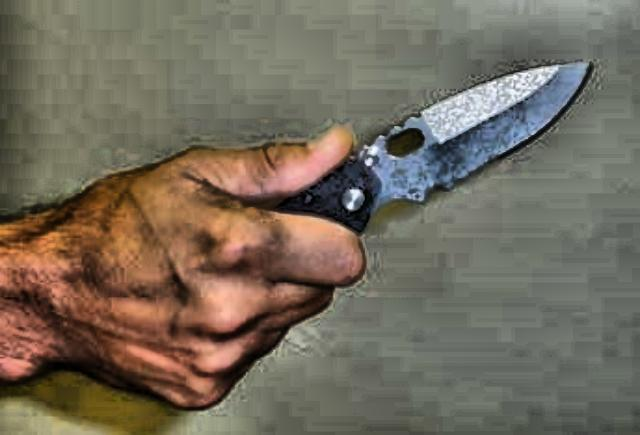knife: (234, 45, 606, 242)
